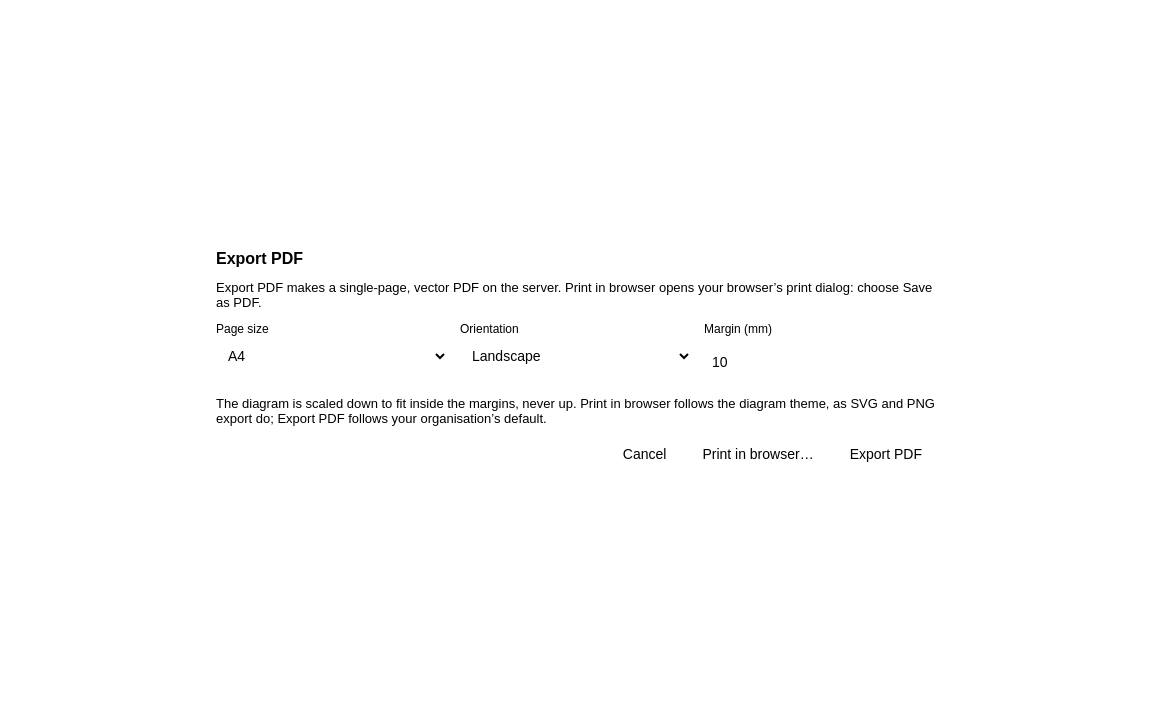
Test: ExportPdfDialog › keeps the dialog open and shows the server’s refusal inline
The image size is (1152, 720).
Click the button "Export PDF" at (886, 454), box [836,438,936,470]
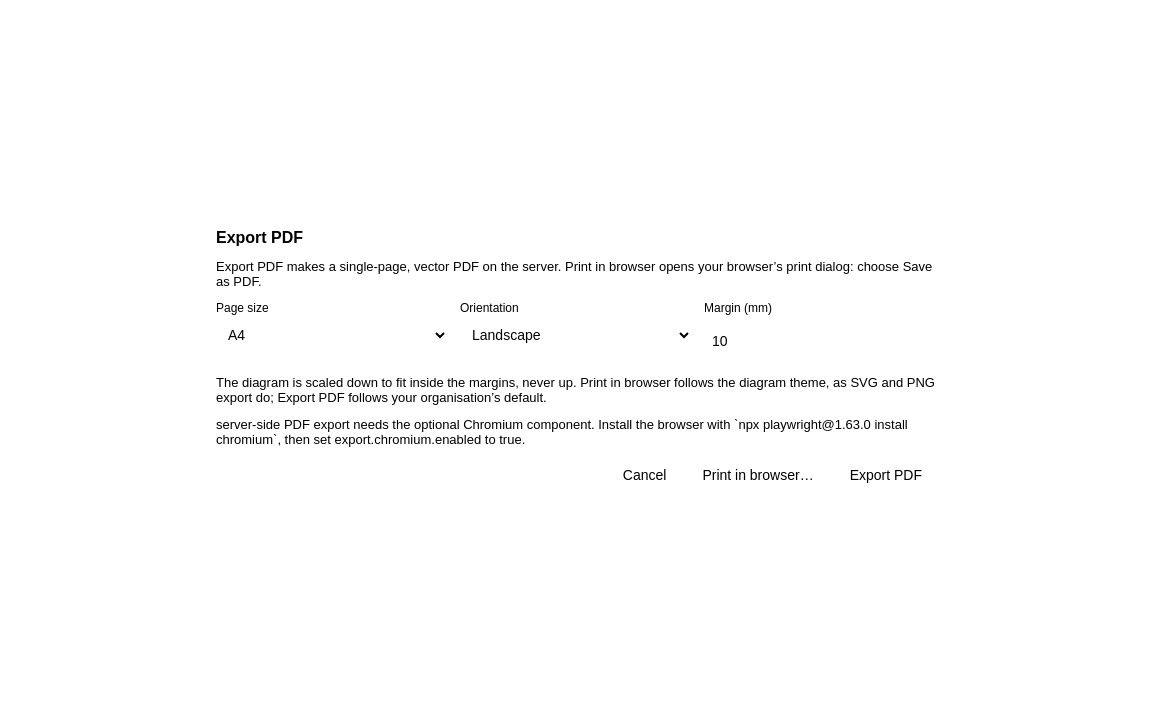
Check: the message shows "npx playwright@1.63.0 install chromium", box [216,417,908,447]
